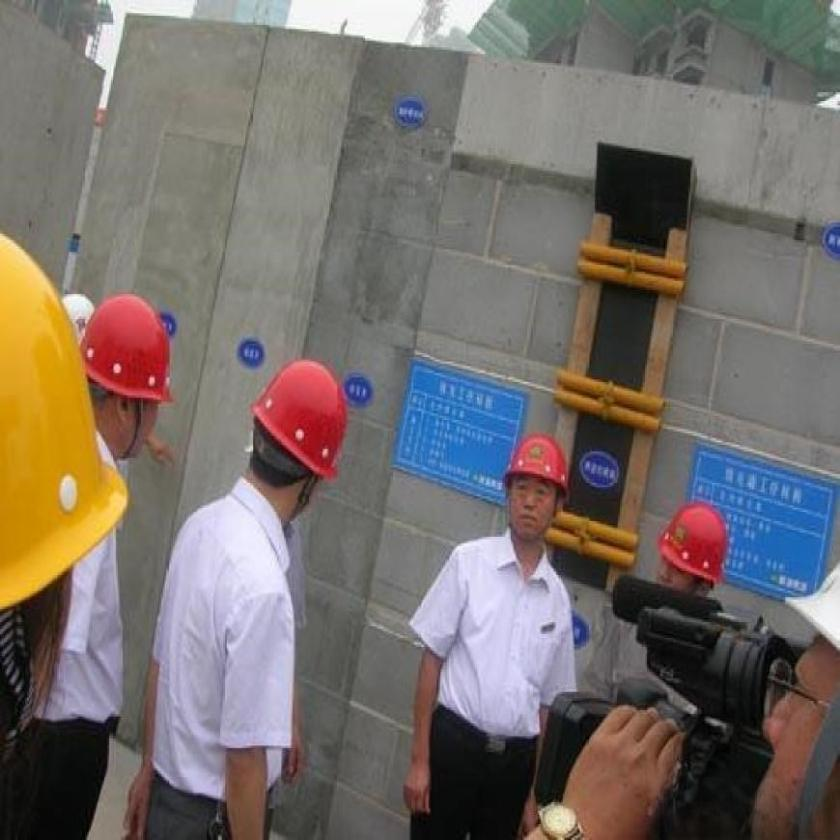Con_casco: (80, 290, 179, 480), (247, 332, 346, 504), (488, 409, 570, 562), (651, 496, 733, 608)
